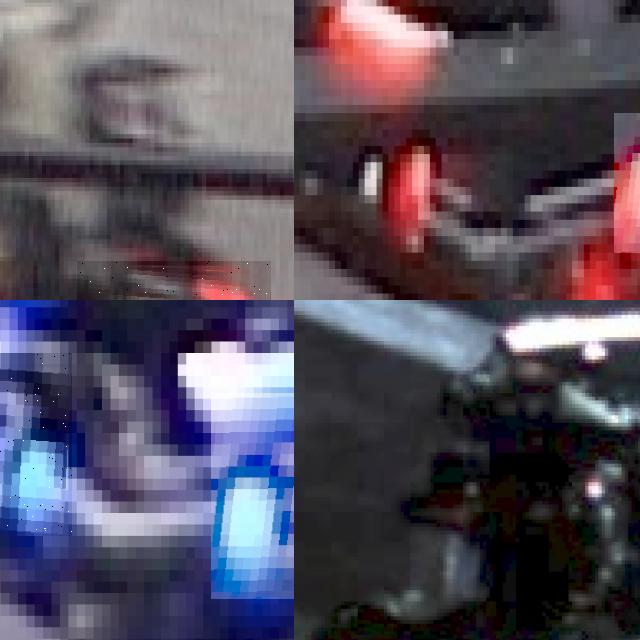B3: (211, 393, 294, 598), (0, 353, 72, 536)
R1: (76, 261, 271, 300)
